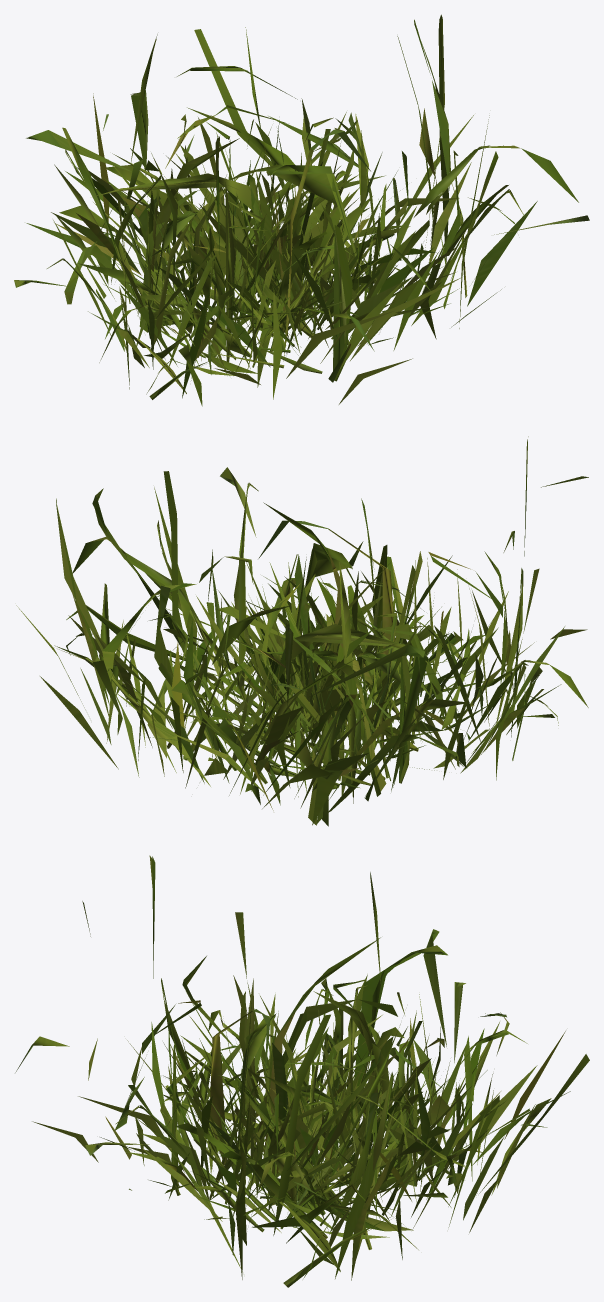
The model's file is grass4.glb.
The picture shows the model from 3 angles, top to bottom: view 1: azimuth 30°, elevation 25°; view 2: azimuth 150°, elevation 25°; view 3: azimuth 270°, elevation 25°; orthographic projection. The views are drawn at different scales.
Visible parts, largest first — view 1: Grass4; view 2: Grass4; view 3: Grass4.
Part boxes in pixels (left/top/right/bottom): Grass4: left=14, top=14, right=589, bottom=406; Grass4: left=16, top=436, right=588, bottom=826; Grass4: left=15, top=855, right=589, bottom=1287.
Bounding box in the file's own units: 0.7695 × 0.4489 × 0.7565.
1 material, 1 textured.
